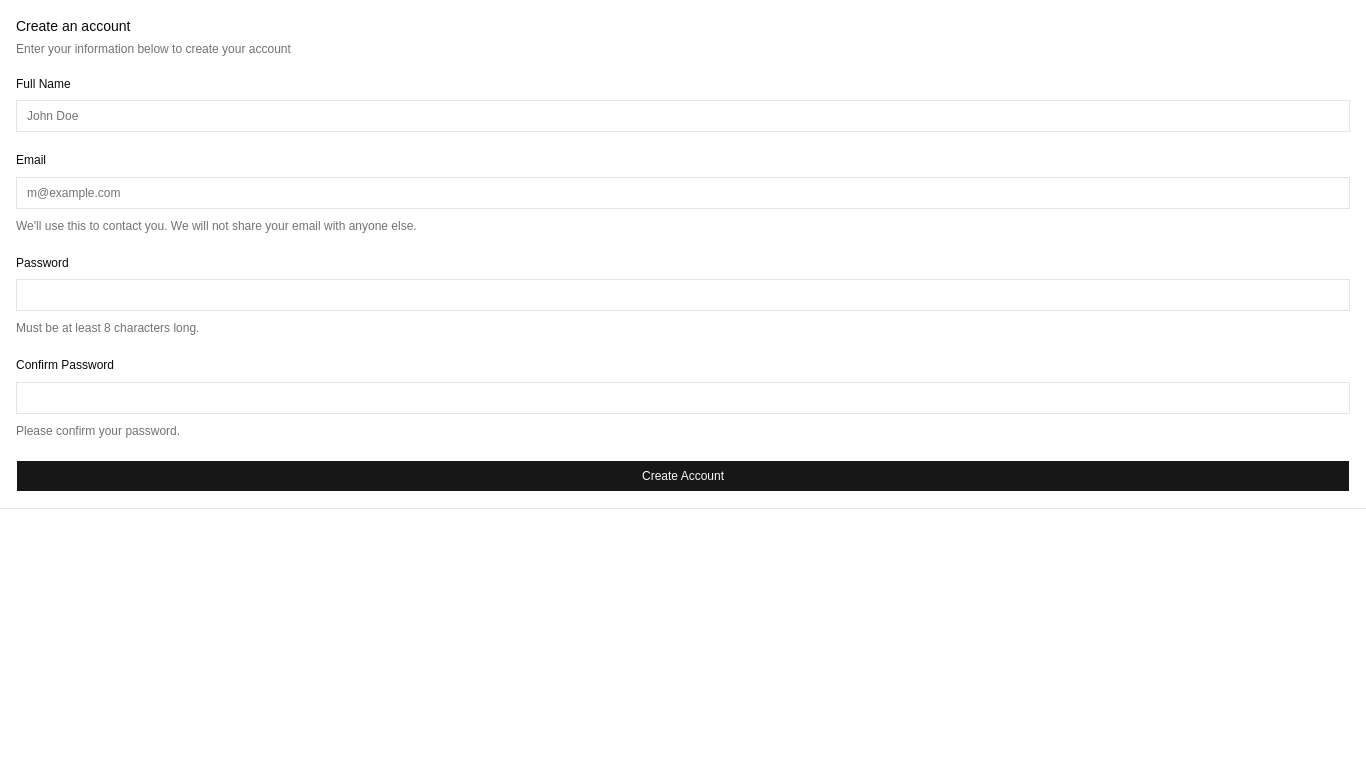
signup form rejects mismatched passwords
This screenshot has width=1366, height=768.
Type "Test User" into the field labelled "Full Name". click: (683, 116)
box: [16,100,1350,132]
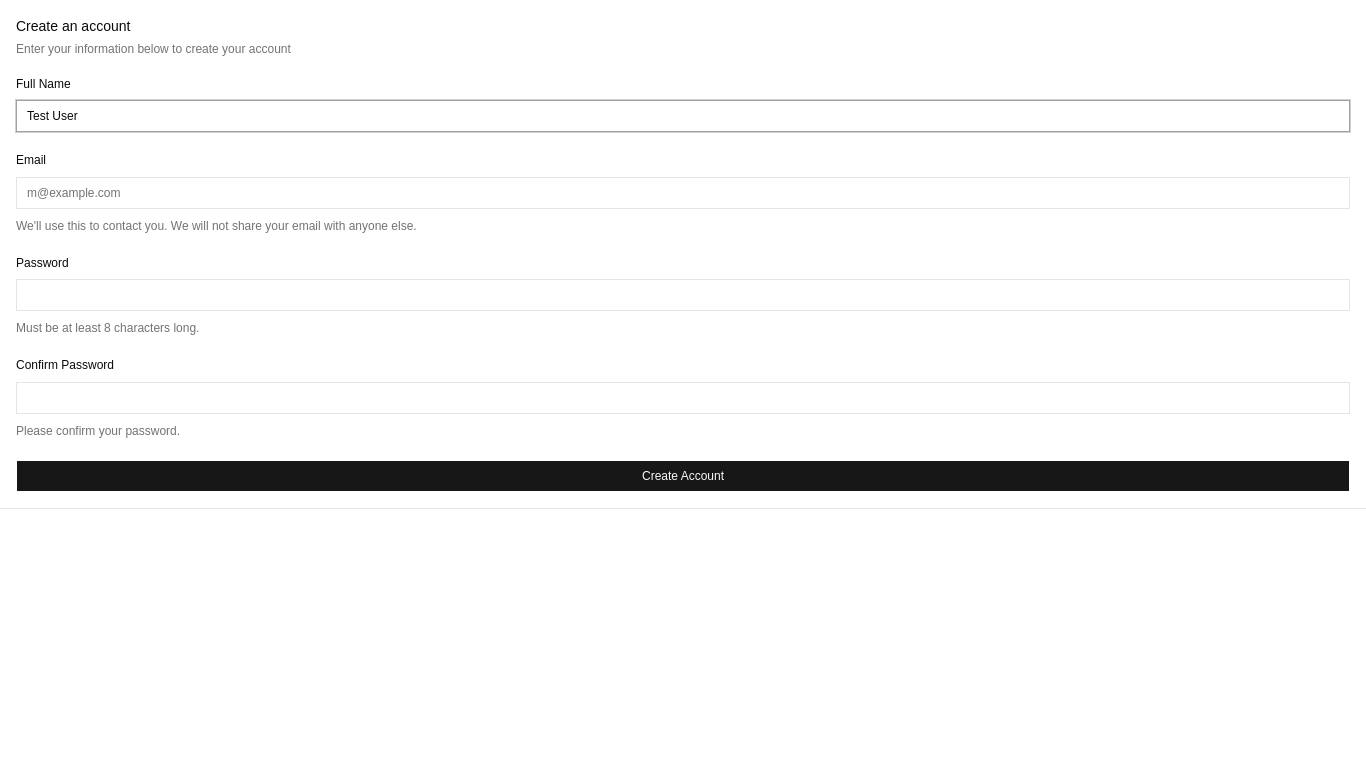
Type "test@example.com" into the field labelled "Email". click: (683, 192)
box: [16,176,1350,208]
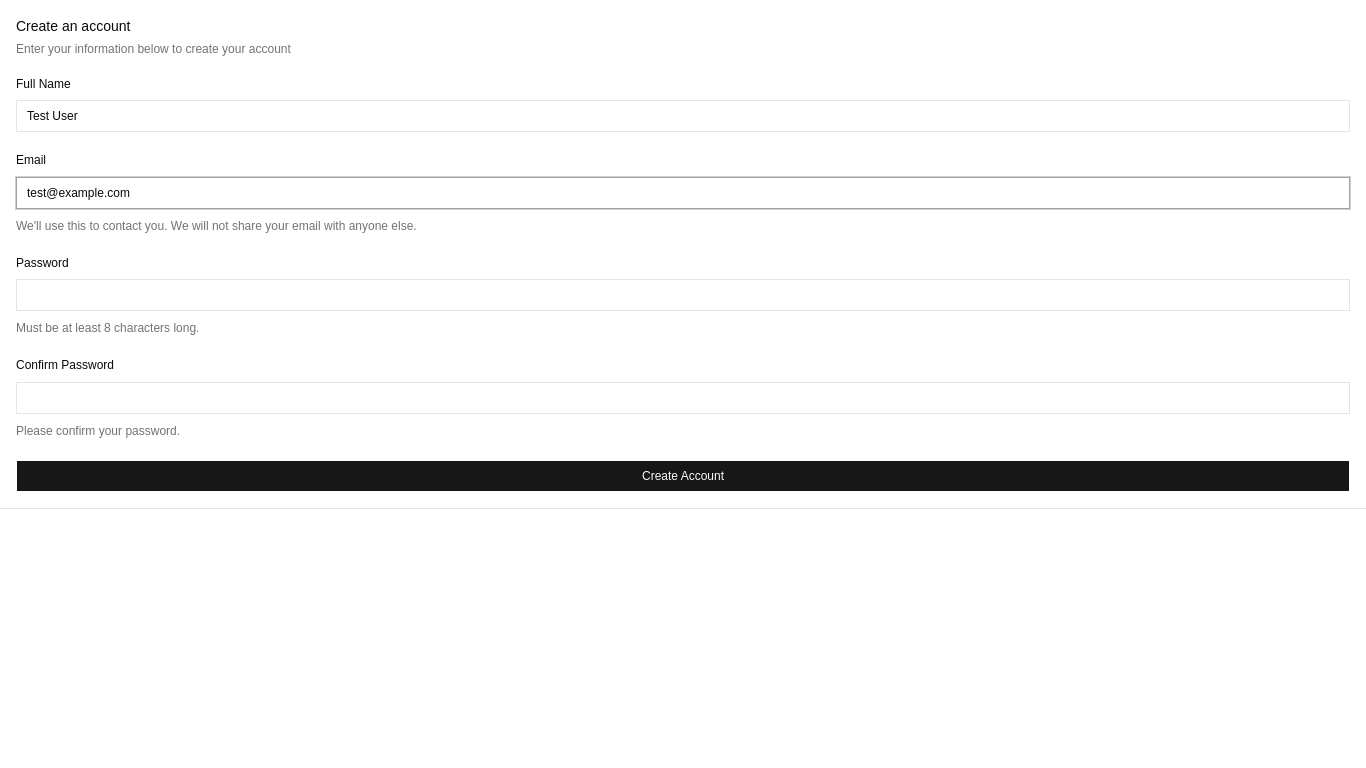
Type "password123" into the password field labelled "Password". click: (683, 295)
box: [16,279,1350,311]
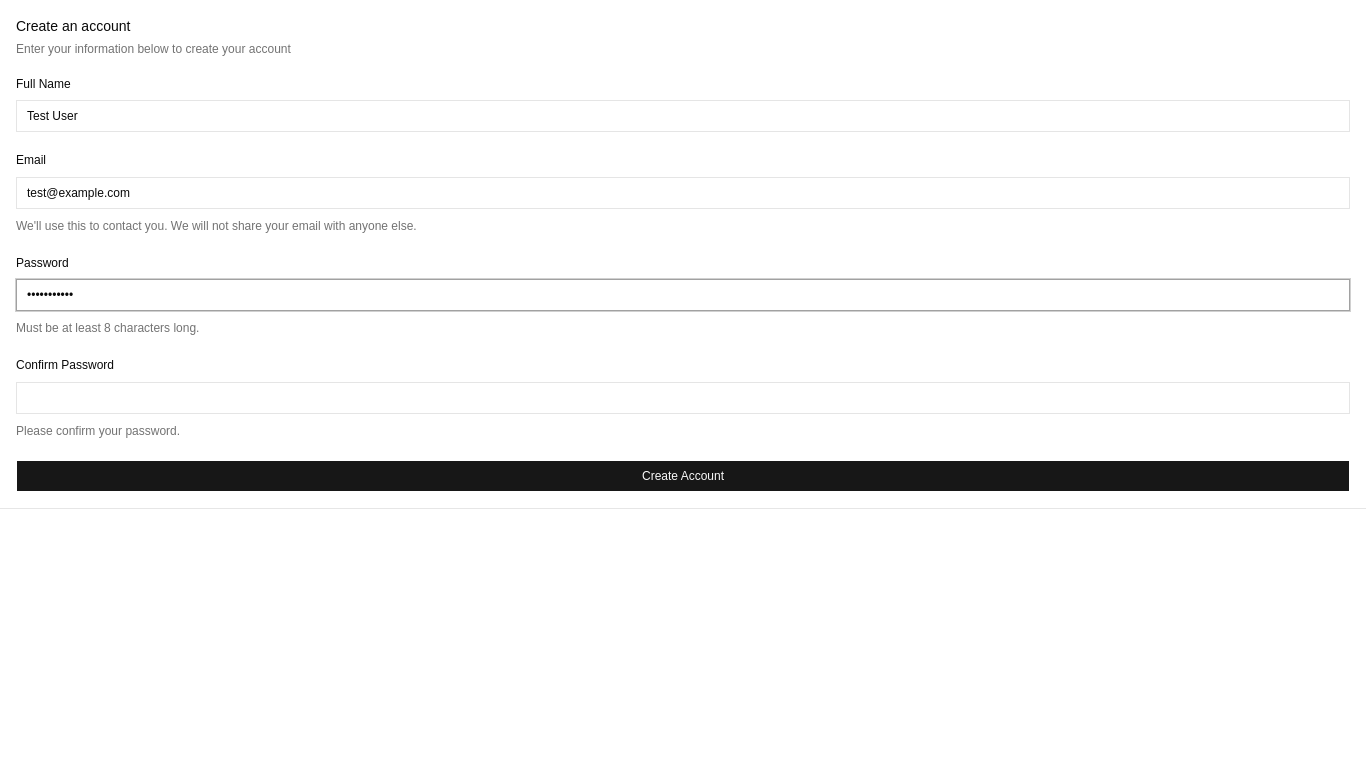
Type "different123" into the password field labelled "Confirm Password". click: (683, 398)
box: [16,382,1350,414]
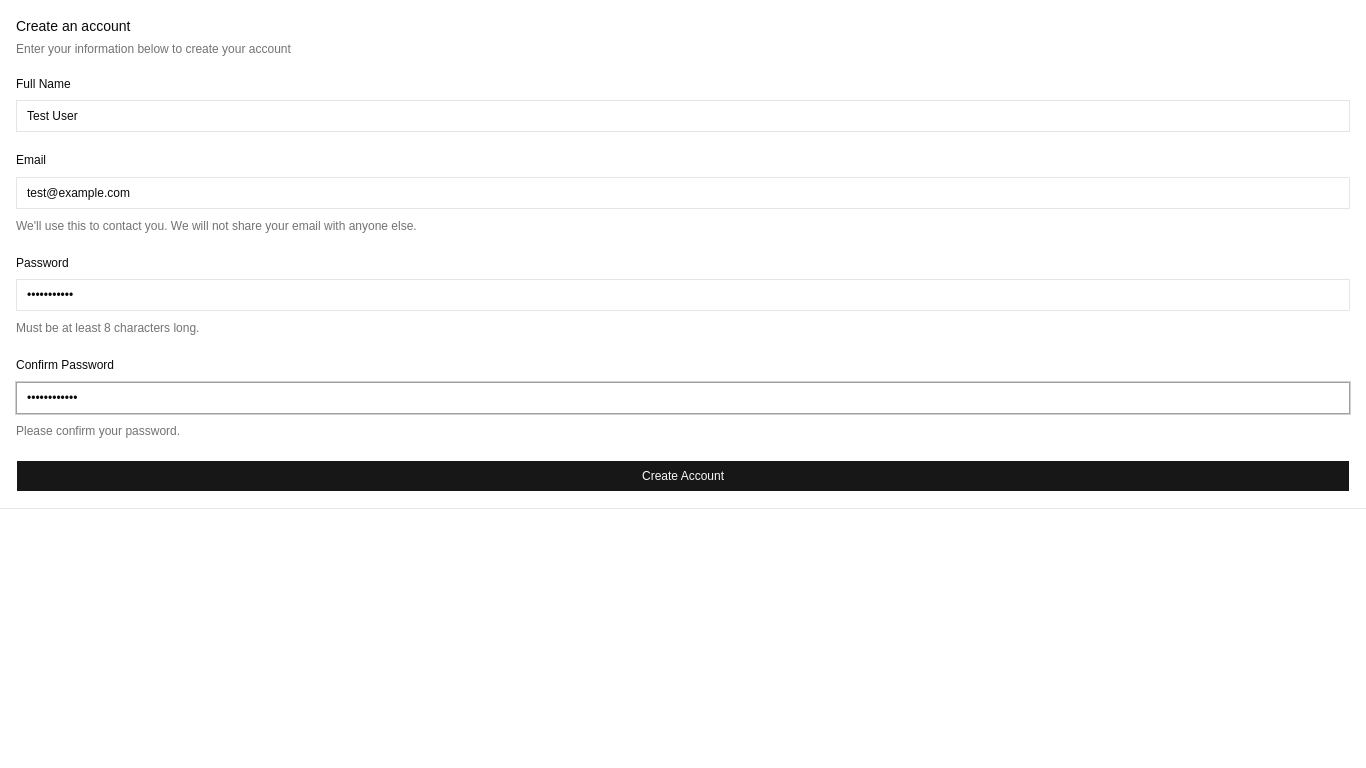
Click the button "Create Account". click: (683, 476)
box: [16,460,1350,492]
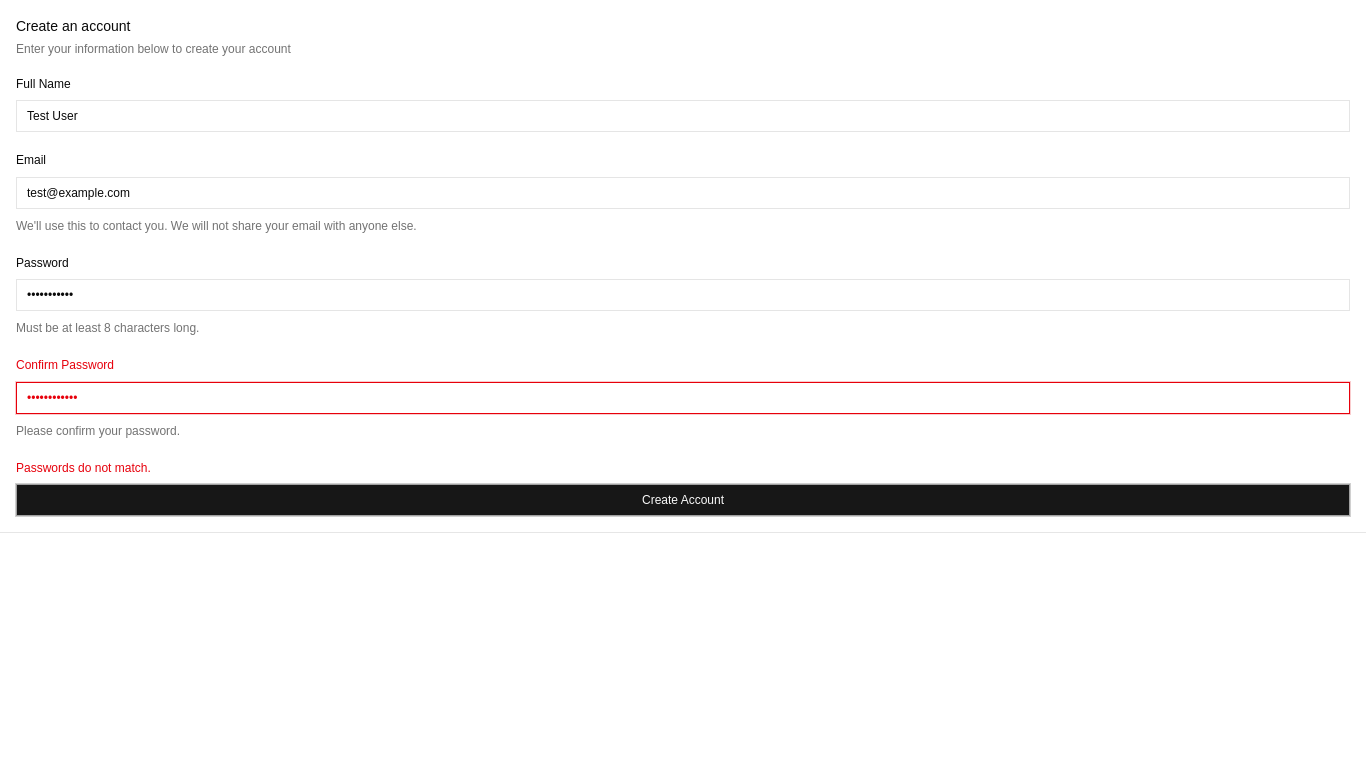
expect the message reads "Passwords do not match.": met, box [16,460,151,474]
